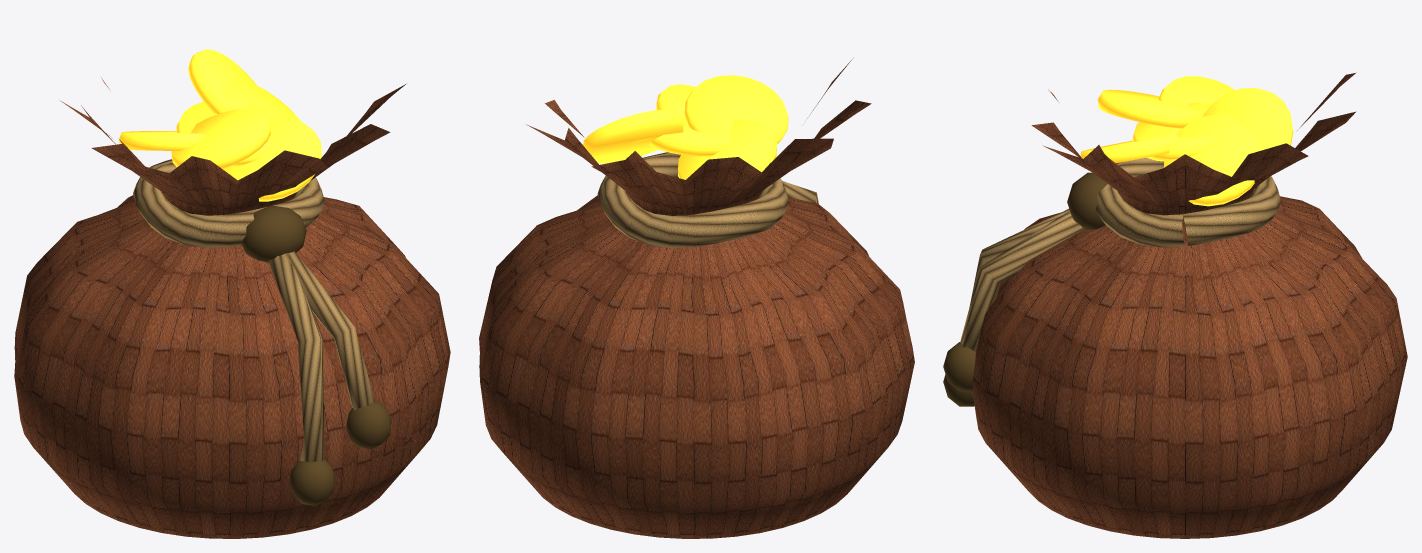
File: pouch.glb
3 renders of one model, left to right at view 1: azimuth 30°, elevation 25°; view 2: azimuth 150°, elevation 25°; view 3: azimuth 270°, elevation 25°, orthographic.
Visible parts, largest first — view 1: pouch.cloth, pouch.rope, pouch.coins; view 2: pouch.cloth, pouch.coins, pouch.rope; view 3: pouch.cloth, pouch.rope, pouch.coins.
Boxes of the visible parts, box(x1,y1,x2,y2) form: pouch.cloth: box(14, 77, 450, 538); pouch.rope: box(133, 159, 391, 505); pouch.coins: box(118, 49, 321, 201); pouch.cloth: box(479, 57, 914, 538); pouch.coins: box(582, 75, 788, 179); pouch.rope: box(597, 152, 818, 247); pouch.cloth: box(972, 72, 1407, 538); pouch.rope: box(943, 158, 1280, 406); pouch.coins: box(1080, 76, 1293, 206).
Size of the model in its own units: 0.7457 by 0.78 by 0.7876.
Materials: 3 (2 with a texture image).
